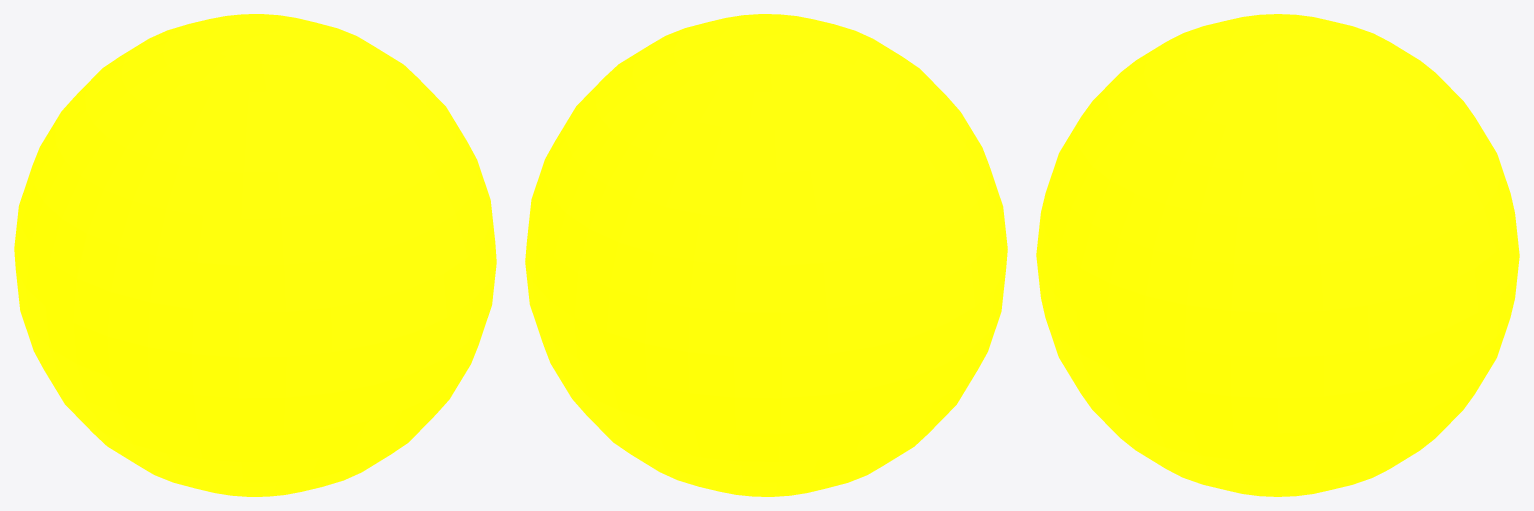
The model's file is Ghost Light.fbx.
3 views of the same model, side by side, from view 1: azimuth 30°, elevation 25°; view 2: azimuth 150°, elevation 25°; view 3: azimuth 270°, elevation 25° (orthographic).
Parts seen in each view (by area): view 1: Sphere.010; view 2: Sphere.010; view 3: Sphere.010.
Boxes of the visible parts, x1,y1,x2,y2 form: Sphere.010: [14, 14, 496, 496]; Sphere.010: [525, 14, 1007, 496]; Sphere.010: [1036, 14, 1519, 496].
Bounding box in the file's own units: 164 × 164 × 164.
